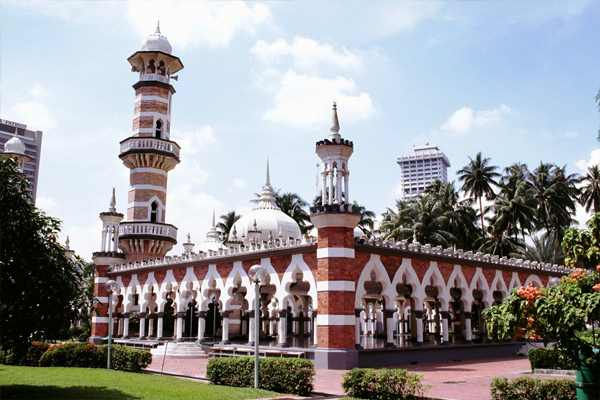Mosque: (71, 19, 565, 349)
